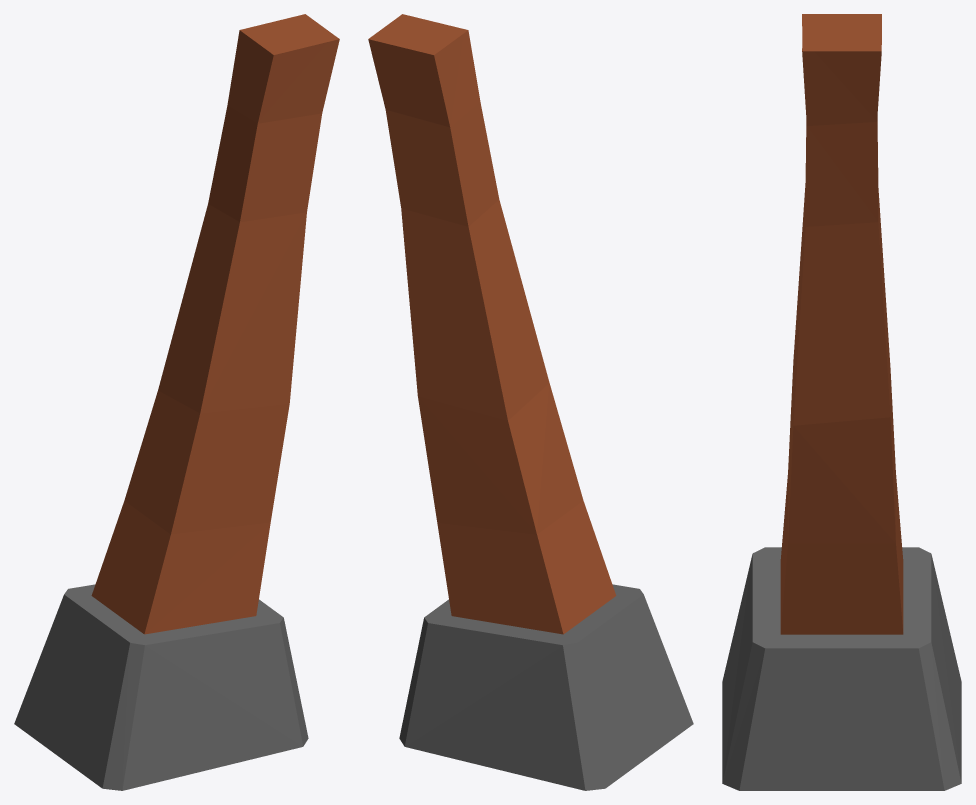
File: Prop_Building_Savage_Timber_Support_Beam_Metal_Base_01.FBX
The picture shows the model from 3 angles, left to right: view 1: azimuth 30°, elevation 25°; view 2: azimuth 150°, elevation 25°; view 3: azimuth 270°, elevation 25°; orthographic projection. The views are drawn at different scales.
Visible parts, largest first — view 1: Prop_Building_Savage_Timber_Support_Beam_Metal_Base_01; view 2: Prop_Building_Savage_Timber_Support_Beam_Metal_Base_01; view 3: Prop_Building_Savage_Timber_Support_Beam_Metal_Base_01.
Boxes of the visible parts, left/top/right/bottom form: Prop_Building_Savage_Timber_Support_Beam_Metal_Base_01: left=14, top=14, right=339, bottom=790; Prop_Building_Savage_Timber_Support_Beam_Metal_Base_01: left=368, top=14, right=693, bottom=790; Prop_Building_Savage_Timber_Support_Beam_Metal_Base_01: left=722, top=14, right=961, bottom=790.
Size of the model in its own units: 2819 by 6781 by 1902.
